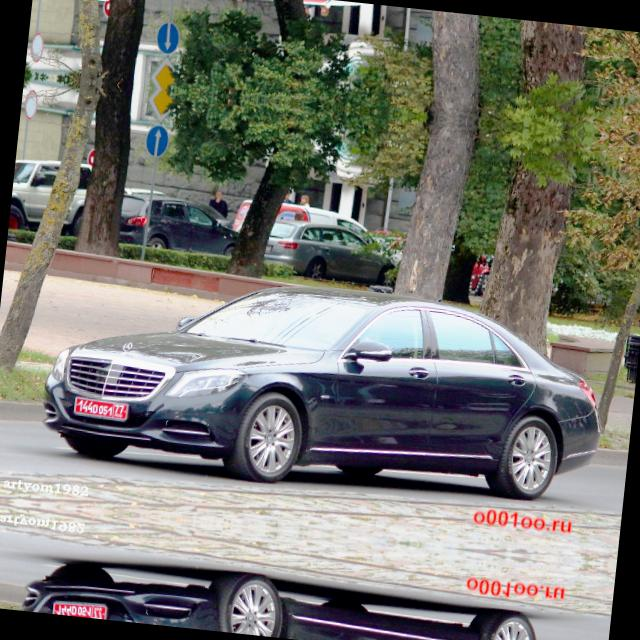diplomatic: (70, 392, 130, 422), (50, 596, 109, 620)
